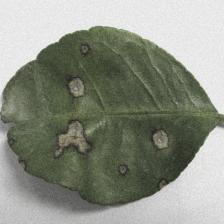canker: (42, 58, 173, 178)
